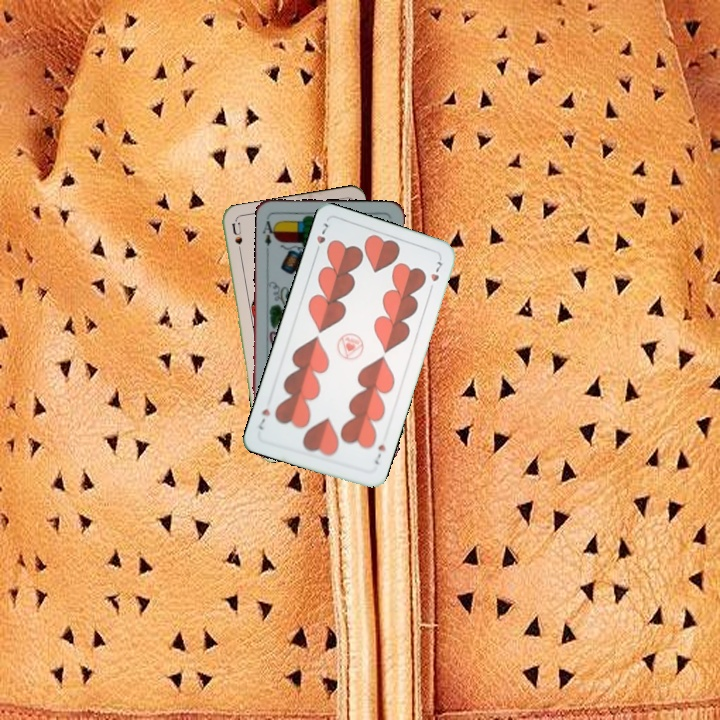EA: (259, 213, 279, 249)
H7: (311, 219, 331, 257), (370, 440, 388, 467)
SU: (227, 219, 245, 260)
